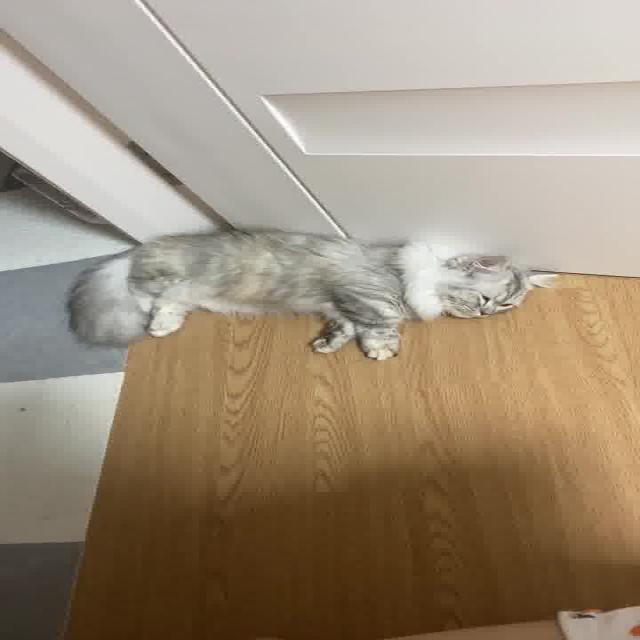cat: (36, 210, 580, 373)
